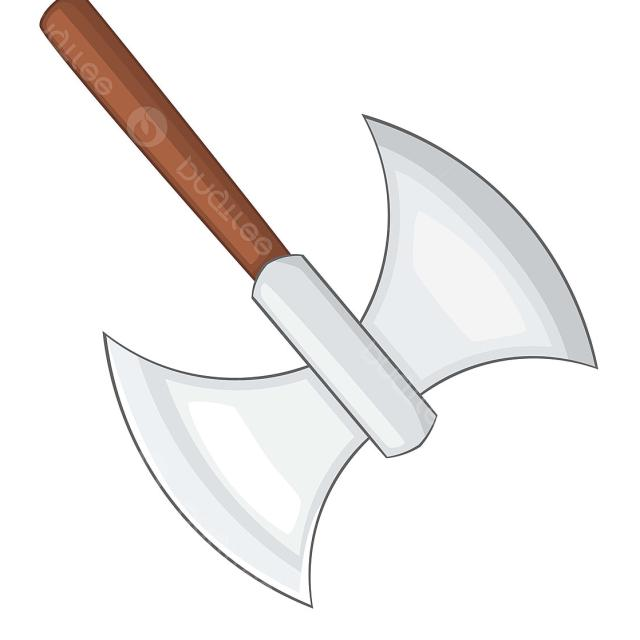Gun: (12, 1, 604, 608)
